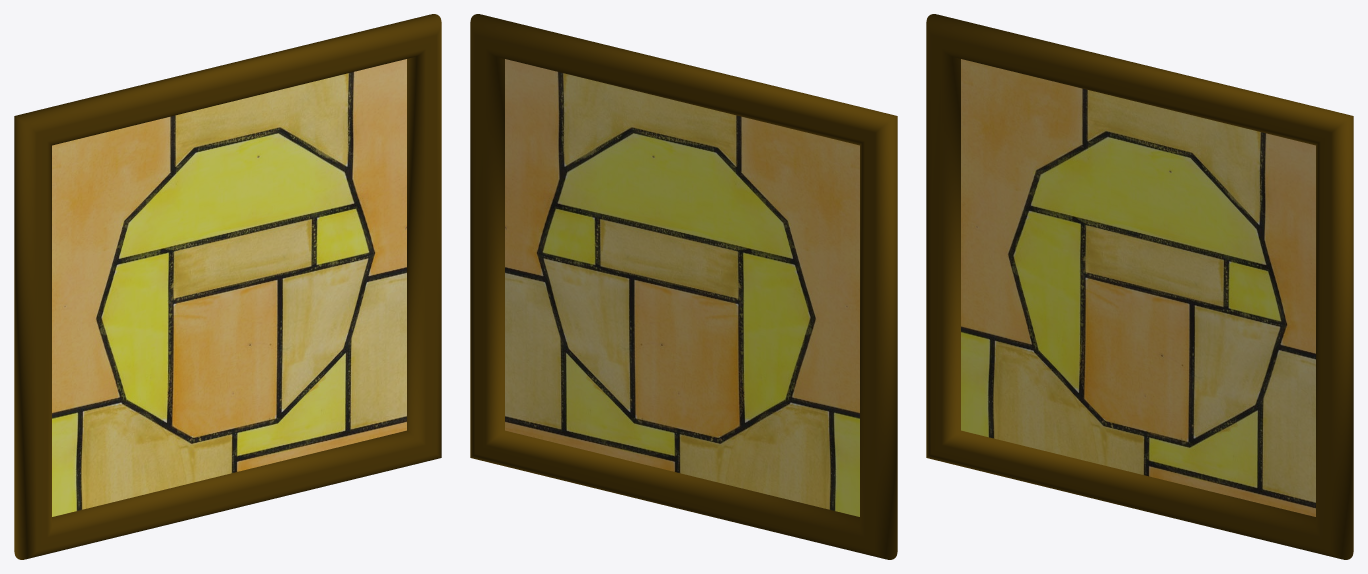
Rendered from yellowImage.fbx.
3 renders of one model, left to right at view 1: azimuth 30°, elevation 25°; view 2: azimuth 150°, elevation 25°; view 3: azimuth 330°, elevation 25°, orthographic.
Visible parts, largest first — view 1: Bild, Ramen; view 2: Bild, Ramen; view 3: Bild, Ramen.
Boxes of the visible parts, left/top/right/bottom form: Bild: left=52, top=59, right=406, bottom=516; Ramen: left=14, top=14, right=441, bottom=559; Bild: left=505, top=59, right=859, bottom=516; Ramen: left=470, top=14, right=897, bottom=559; Bild: left=961, top=59, right=1315, bottom=516; Ramen: left=926, top=14, right=1353, bottom=559.
Size of the model in its own units: 424 by 424 by 30.
